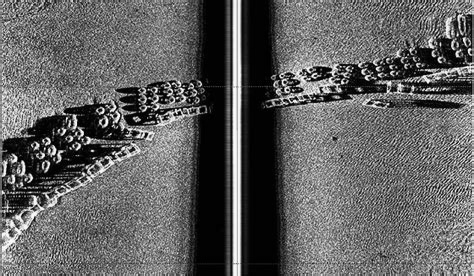ship: (359, 95, 390, 113)
